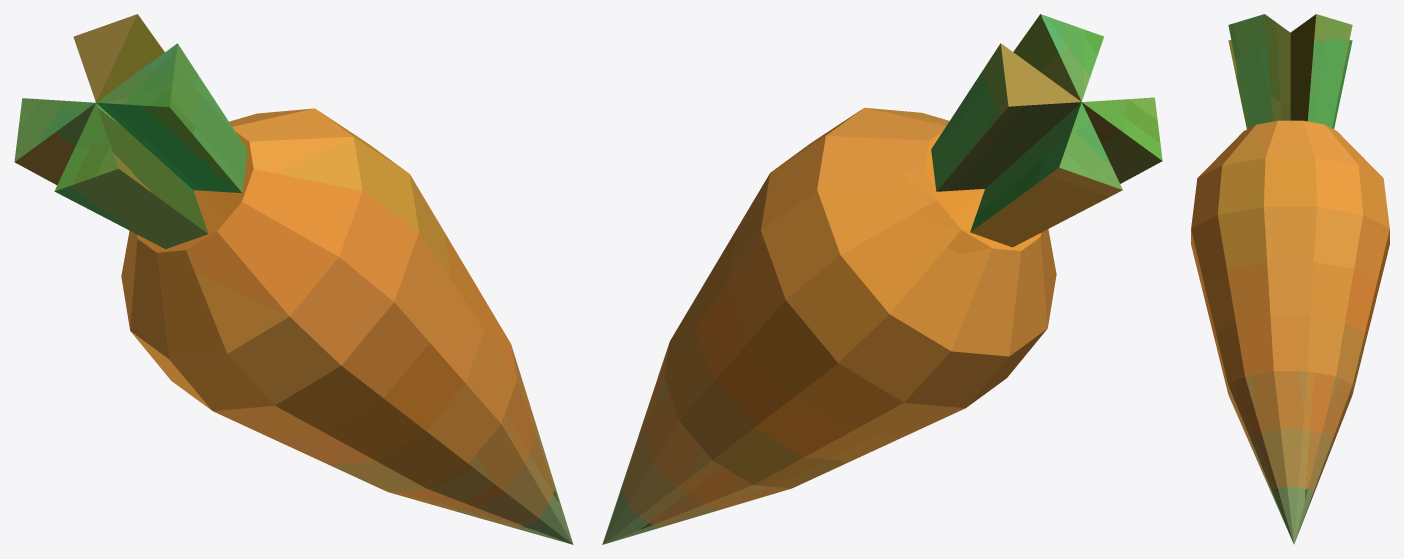
File: honey_glazed_carrot-optimized.glb
3 views of the same model, side by side, from view 1: azimuth 30°, elevation 25°; view 2: azimuth 150°, elevation 25°; view 3: azimuth 270°, elevation 25° (orthographic). The views are drawn at different scales.
Visible parts, largest first — view 1: cylinder; view 2: cylinder; view 3: cylinder.
Boxes of the visible parts, box(x1,y1,x2,y2) form: cylinder: box(14, 14, 573, 544); cylinder: box(602, 14, 1162, 544); cylinder: box(1191, 14, 1389, 544).
Size of the model in its own units: 0.6585 by 0.7206 by 0.325.
1 material, 1 textured.
